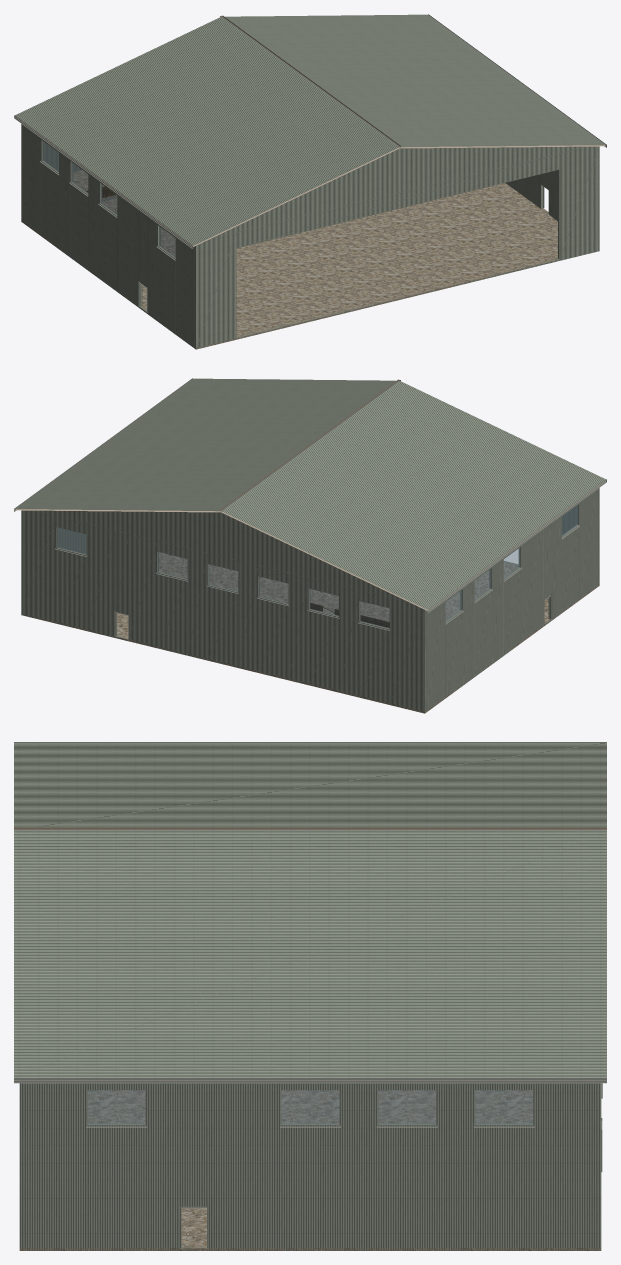
Rendered from mil-hangar.loc-v1.lod1.glb.
3 views of the same model, one above another, from view 1: azimuth 30°, elevation 25°; view 2: azimuth 150°, elevation 25°; view 3: azimuth 270°, elevation 25° (orthographic). The views are drawn at different scales.
Visible parts, largest first — view 1: mil-hangar; view 2: mil-hangar; view 3: mil-hangar.
Part boxes in pixels (bbox=[...]): mil-hangar: bbox=[14, 14, 606, 349]; mil-hangar: bbox=[14, 378, 606, 713]; mil-hangar: bbox=[14, 742, 606, 1250].
Bounding box in the file's own units: 41.08 × 14.7 × 30.6.
Materials: 5 (3 with a texture image).
